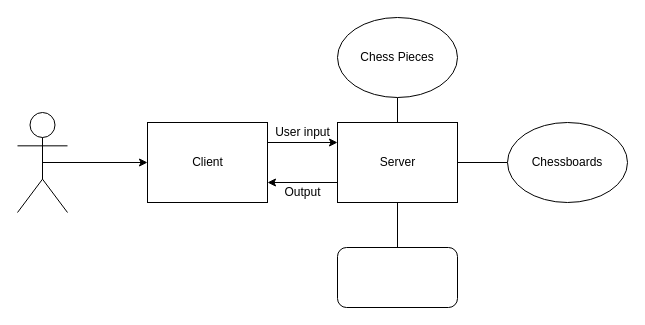
Image size: 645x325. Some labels were removed from this diagram. Here are the shapes that lost their labels. From the top down, the centre of each, then its label:
(42,162): Actor
(397,277): Game Status
